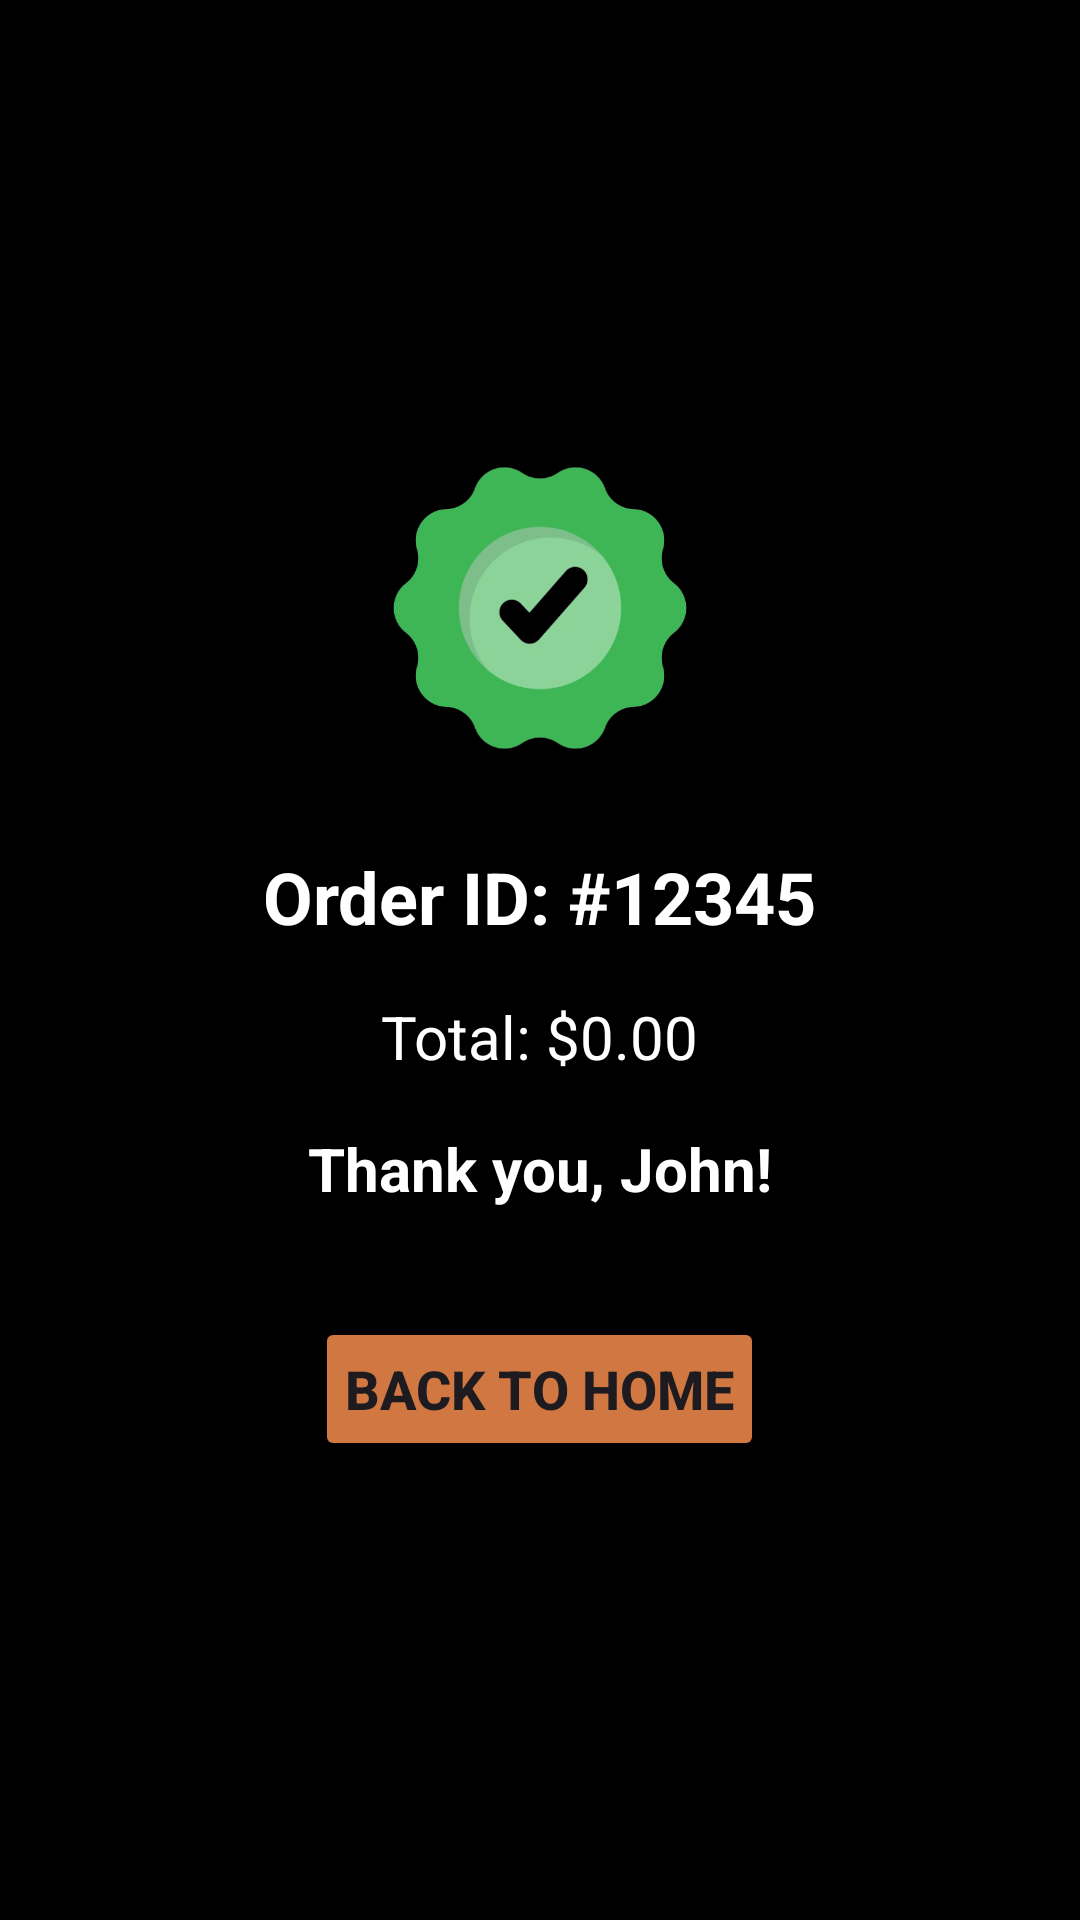

Locate icon controls on the screen. Image size 1080*1920, boxes as (x1, y1, x2, y2).
Success Icon: (393, 467, 687, 749)
